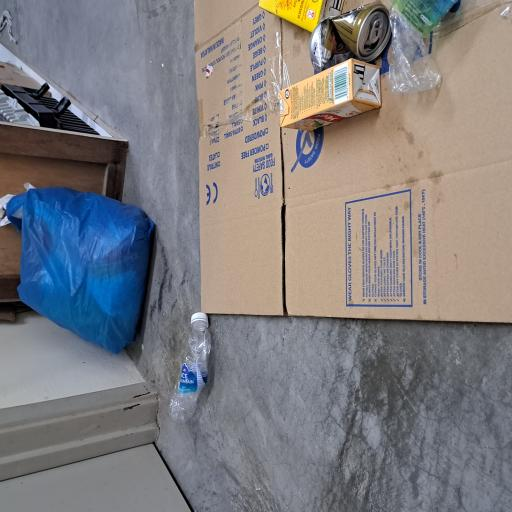can: (141, 257, 384, 512), (330, 413, 384, 512)
drink carton: (286, 370, 340, 509)
plastic bag: (116, 22, 244, 206)
plastic bottle: (66, 222, 144, 283)
plastic bottle cap: (139, 254, 150, 278)
pop tab: (351, 493, 370, 511)
